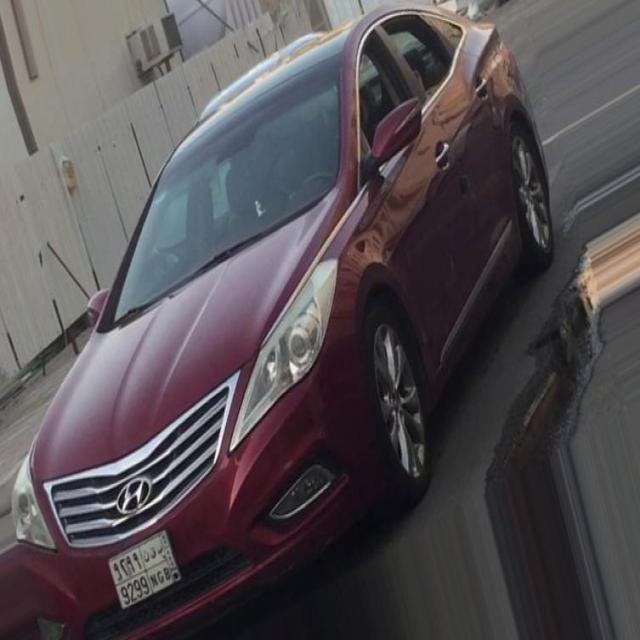Car-plate: (99, 519, 192, 625)
